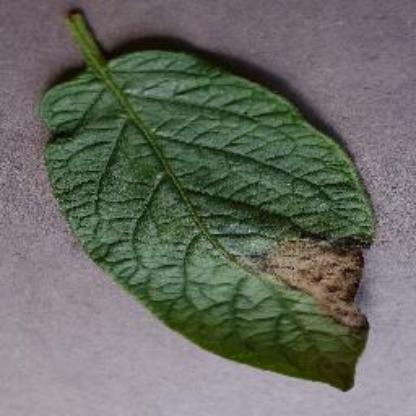Late-Blight: (30, 5, 376, 393)
